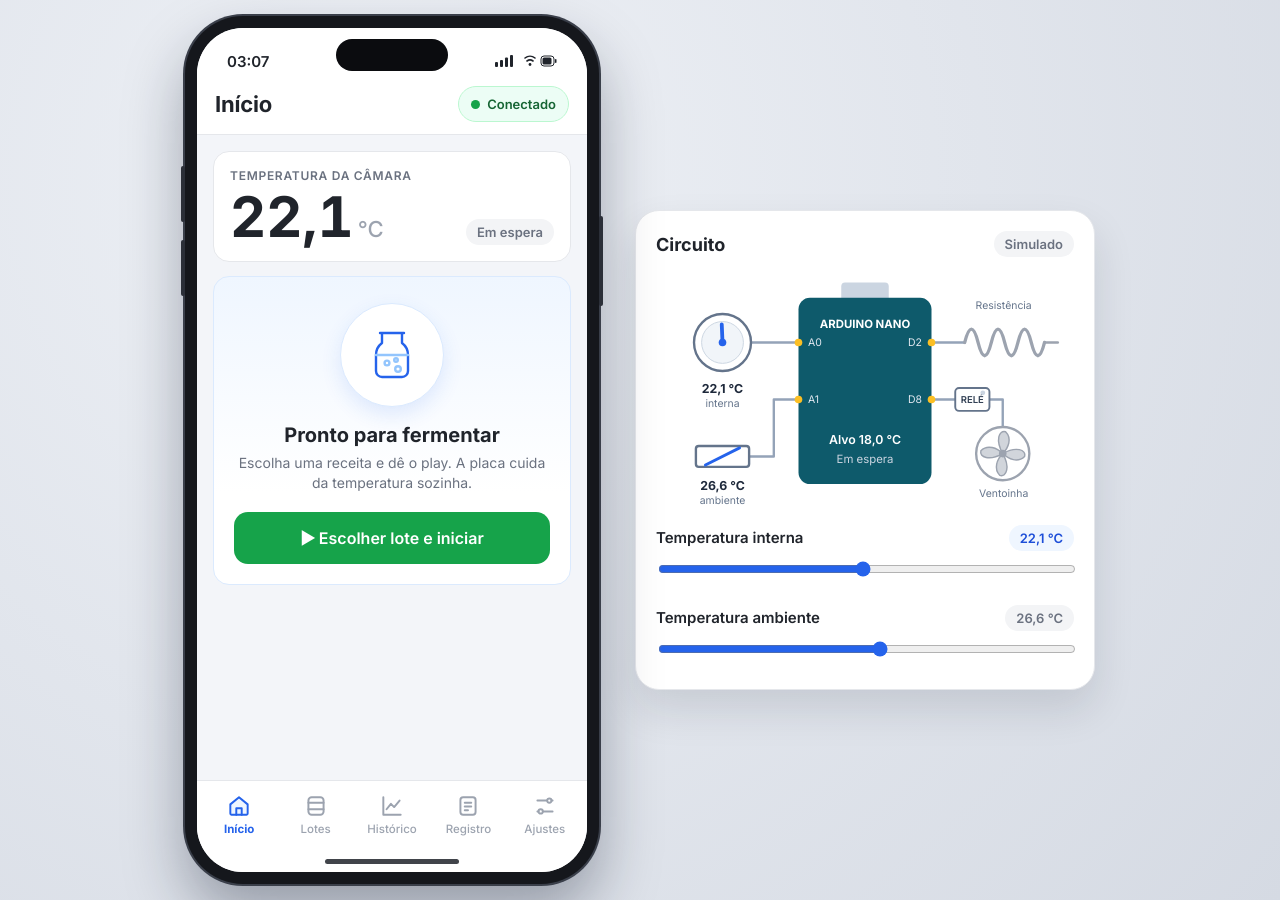
App › Simular (Modo dev no celular) › no computador, mexer num slider do circuito assume o controle (desliga o automático)
Click the button "Lotes" at [316, 814], box [277,787,354,842]
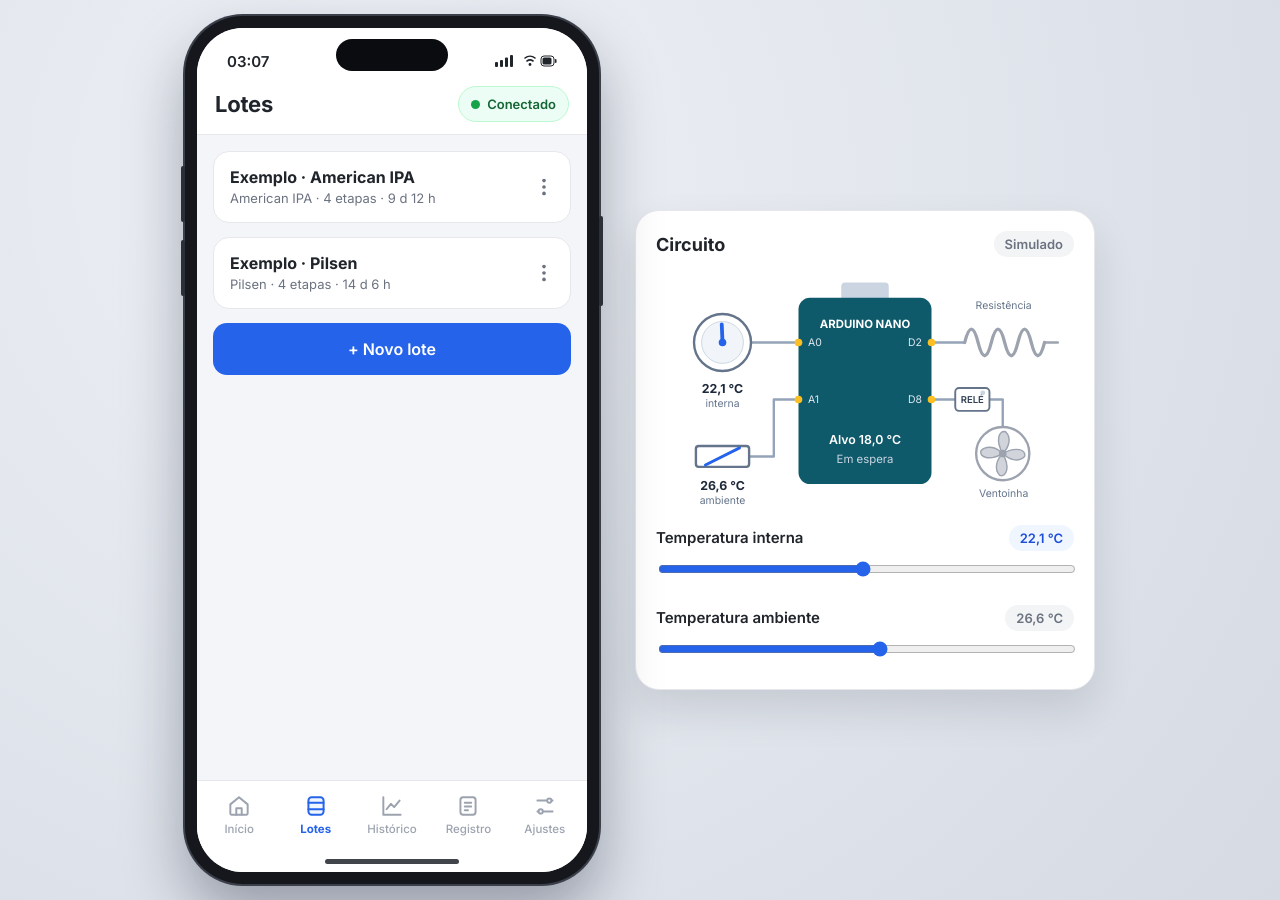
Click the button named "Opções de Exemplo · American IPA" at [544, 187], box [518,152,570,222]
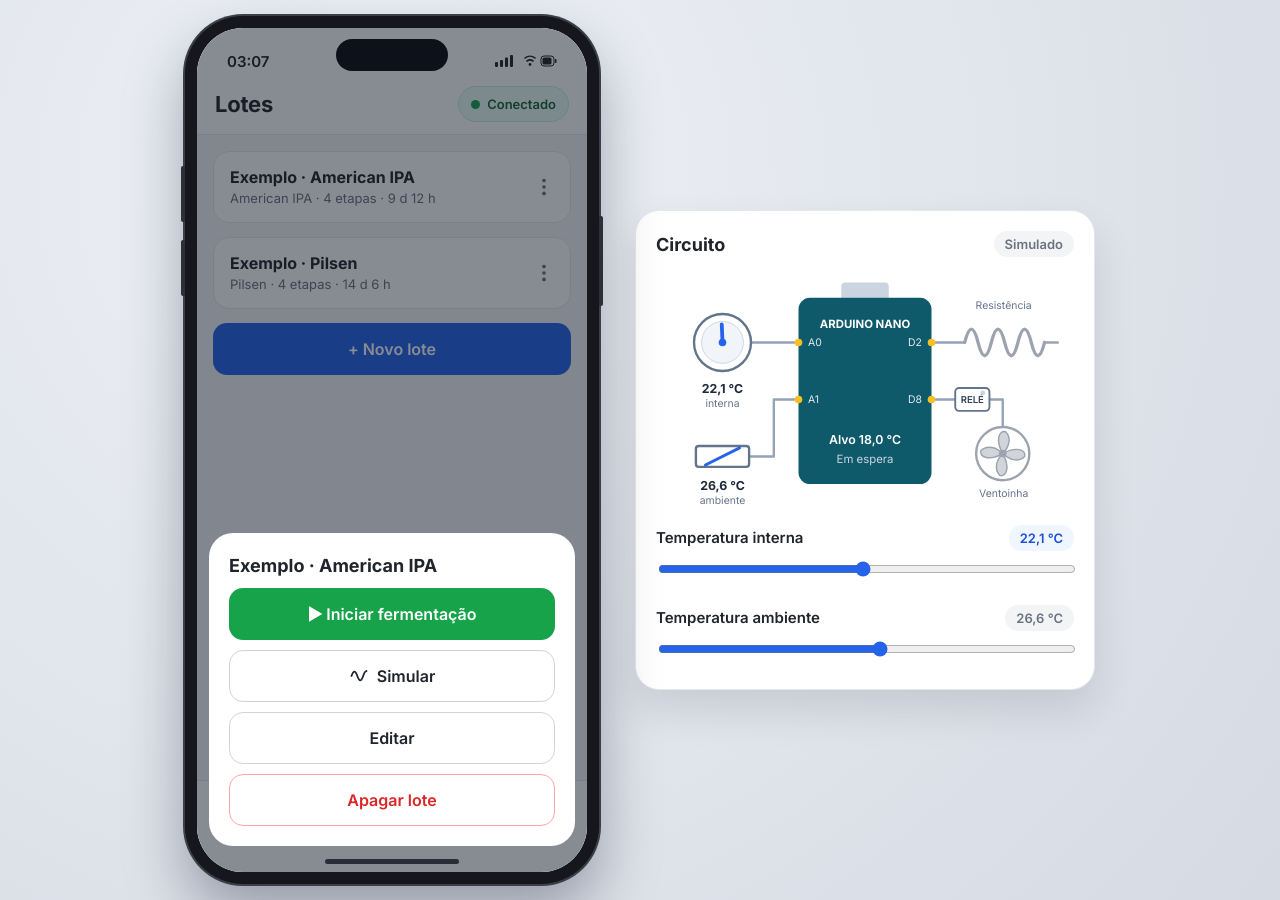
Click the button "Simular" at [392, 676], box [229,650,555,702]
Wait 500 ms
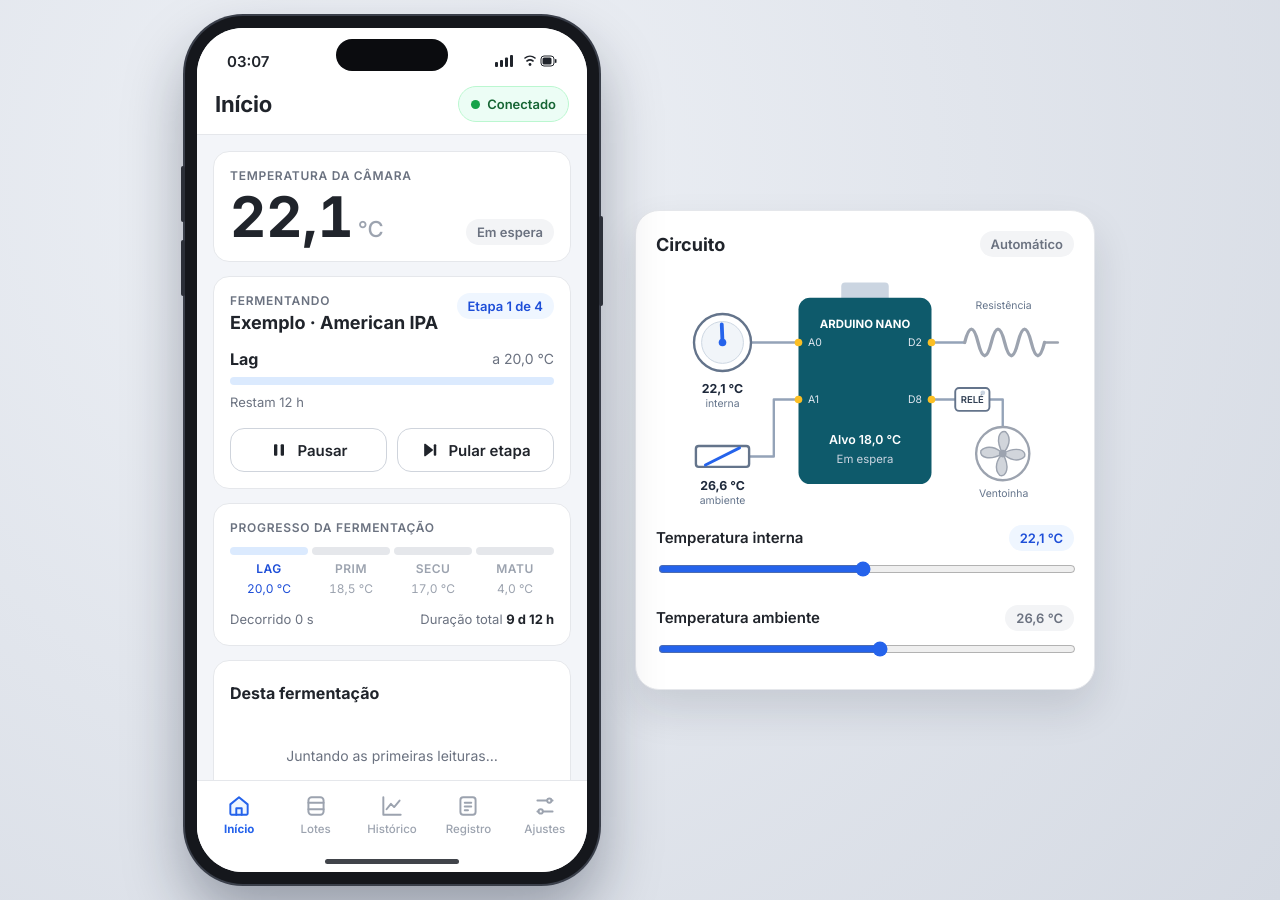
Check: the text "Automático" is shown, box [980,231,1074,257]
Set the slider named "Temperatura interna (potenciômetro)" to "5" at [711, 569], box [658,553,1076,585]
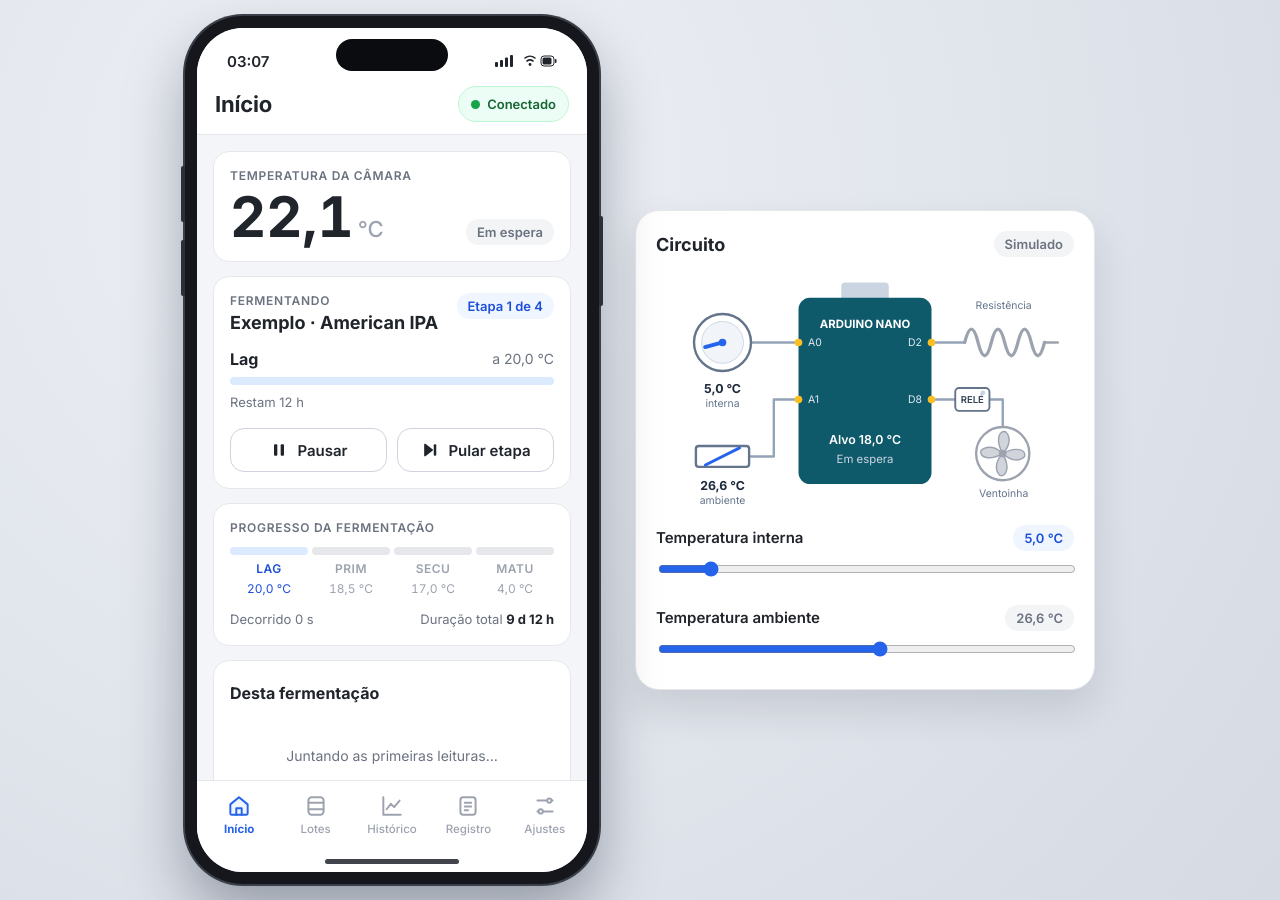
Check: the text "Automático" is gone
